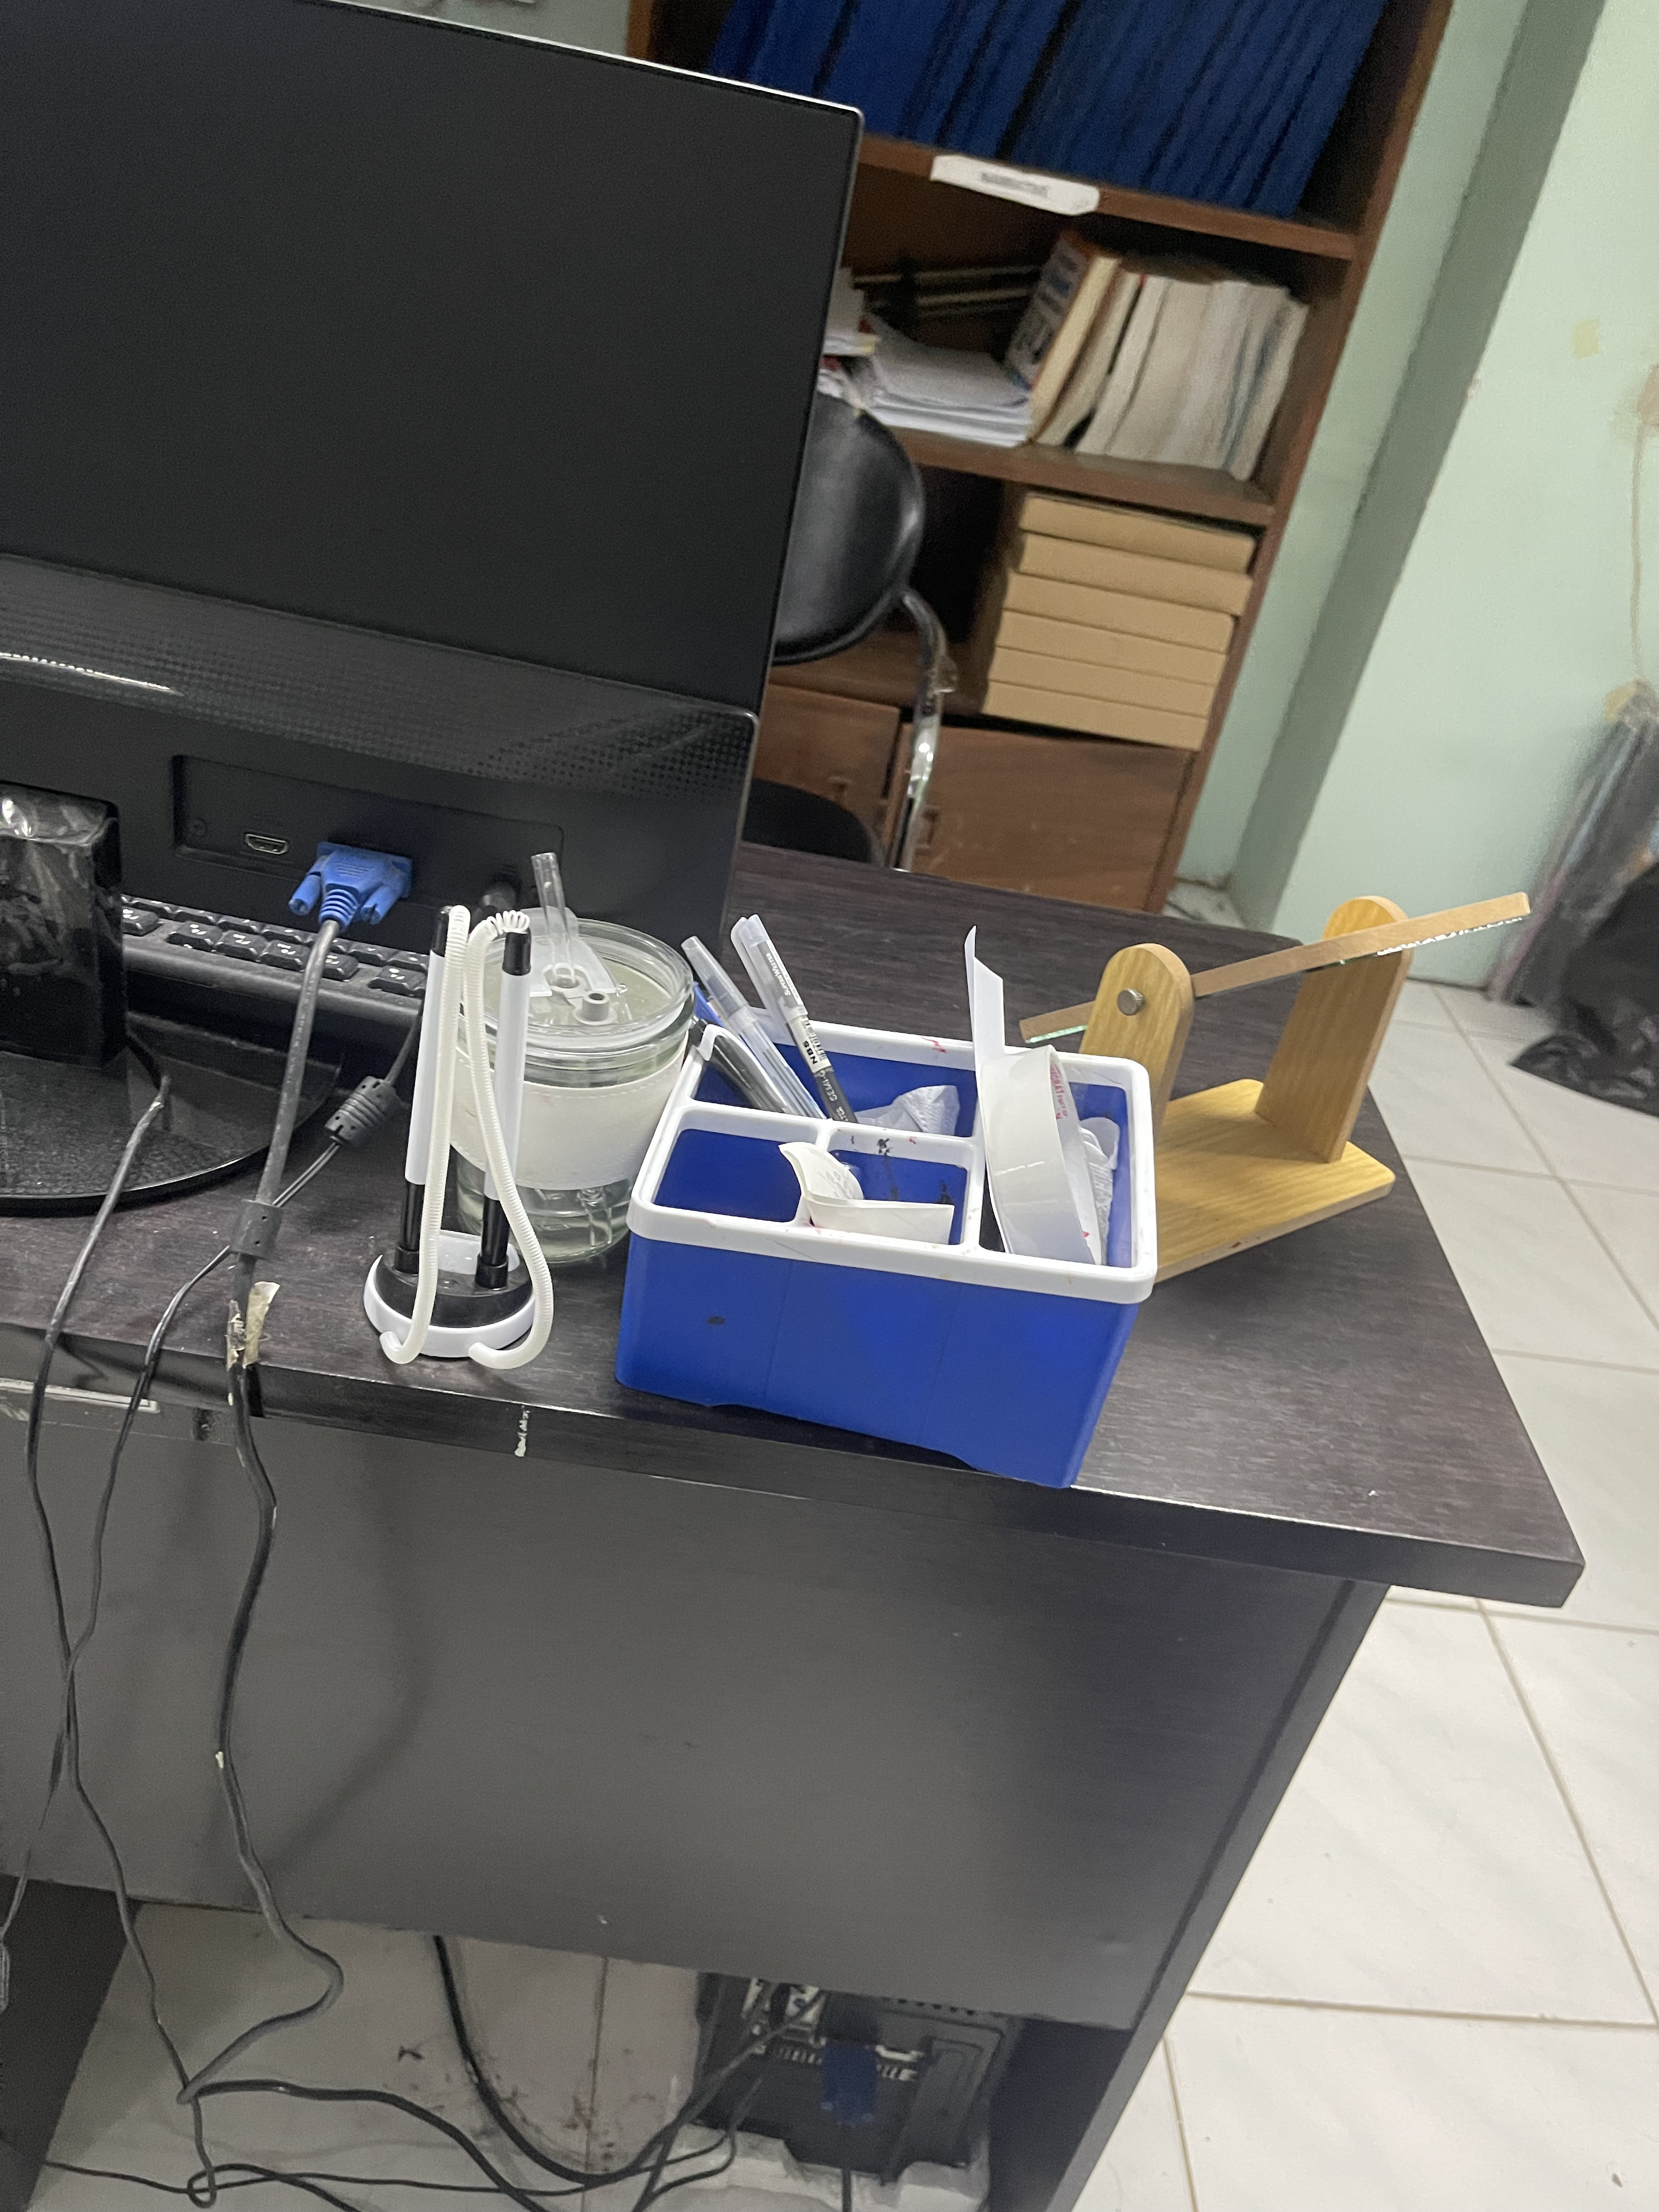table1: (33, 792, 1589, 2212)
